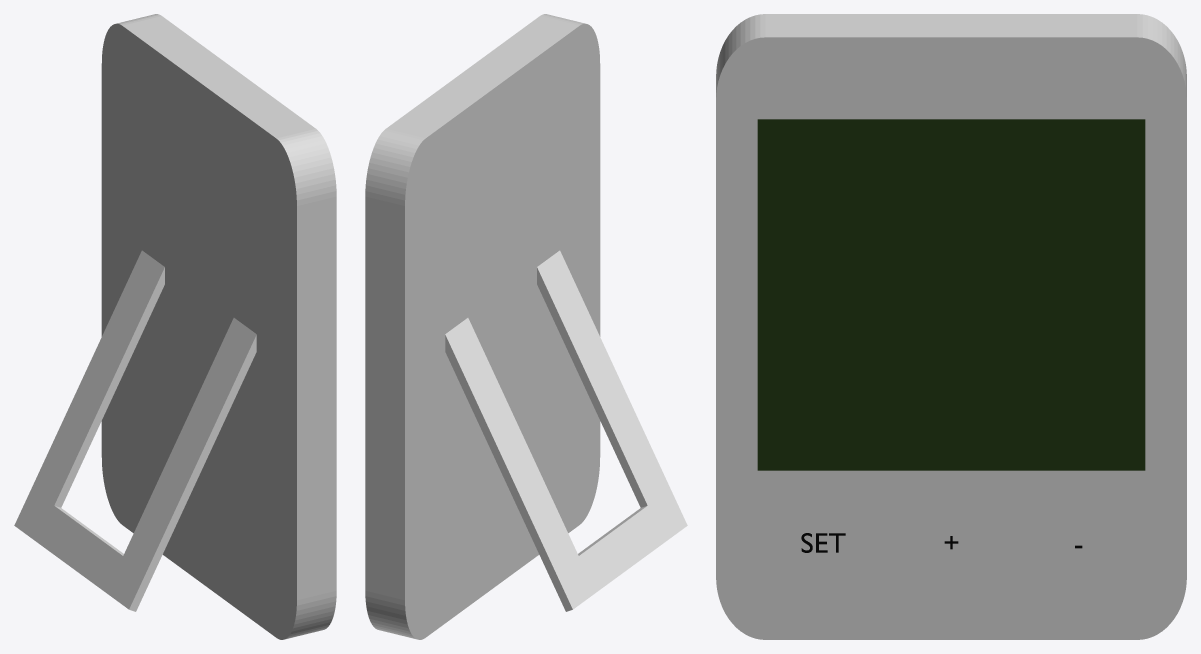
Rendered from Clock.fbx.
3 views of the same model, side by side, from view 1: azimuth 30°, elevation 25°; view 2: azimuth 150°, elevation 25°; view 3: azimuth 270°, elevation 25° (orthographic). The views are drawn at different scales.
Parts seen in each view (by area): view 1: MainBody, Stand; view 2: MainBody, Stand; view 3: MainBody, Panel.
Boxes of the visible parts, x1,y1,x2,y2 form: MainBody: (101, 14, 336, 639); Stand: (14, 250, 256, 611); MainBody: (365, 14, 600, 639); Stand: (445, 250, 687, 611); MainBody: (716, 14, 1186, 639); Panel: (757, 119, 1145, 470).
Bounding box in the file's own units: 4.24 × 12 × 8.5.
